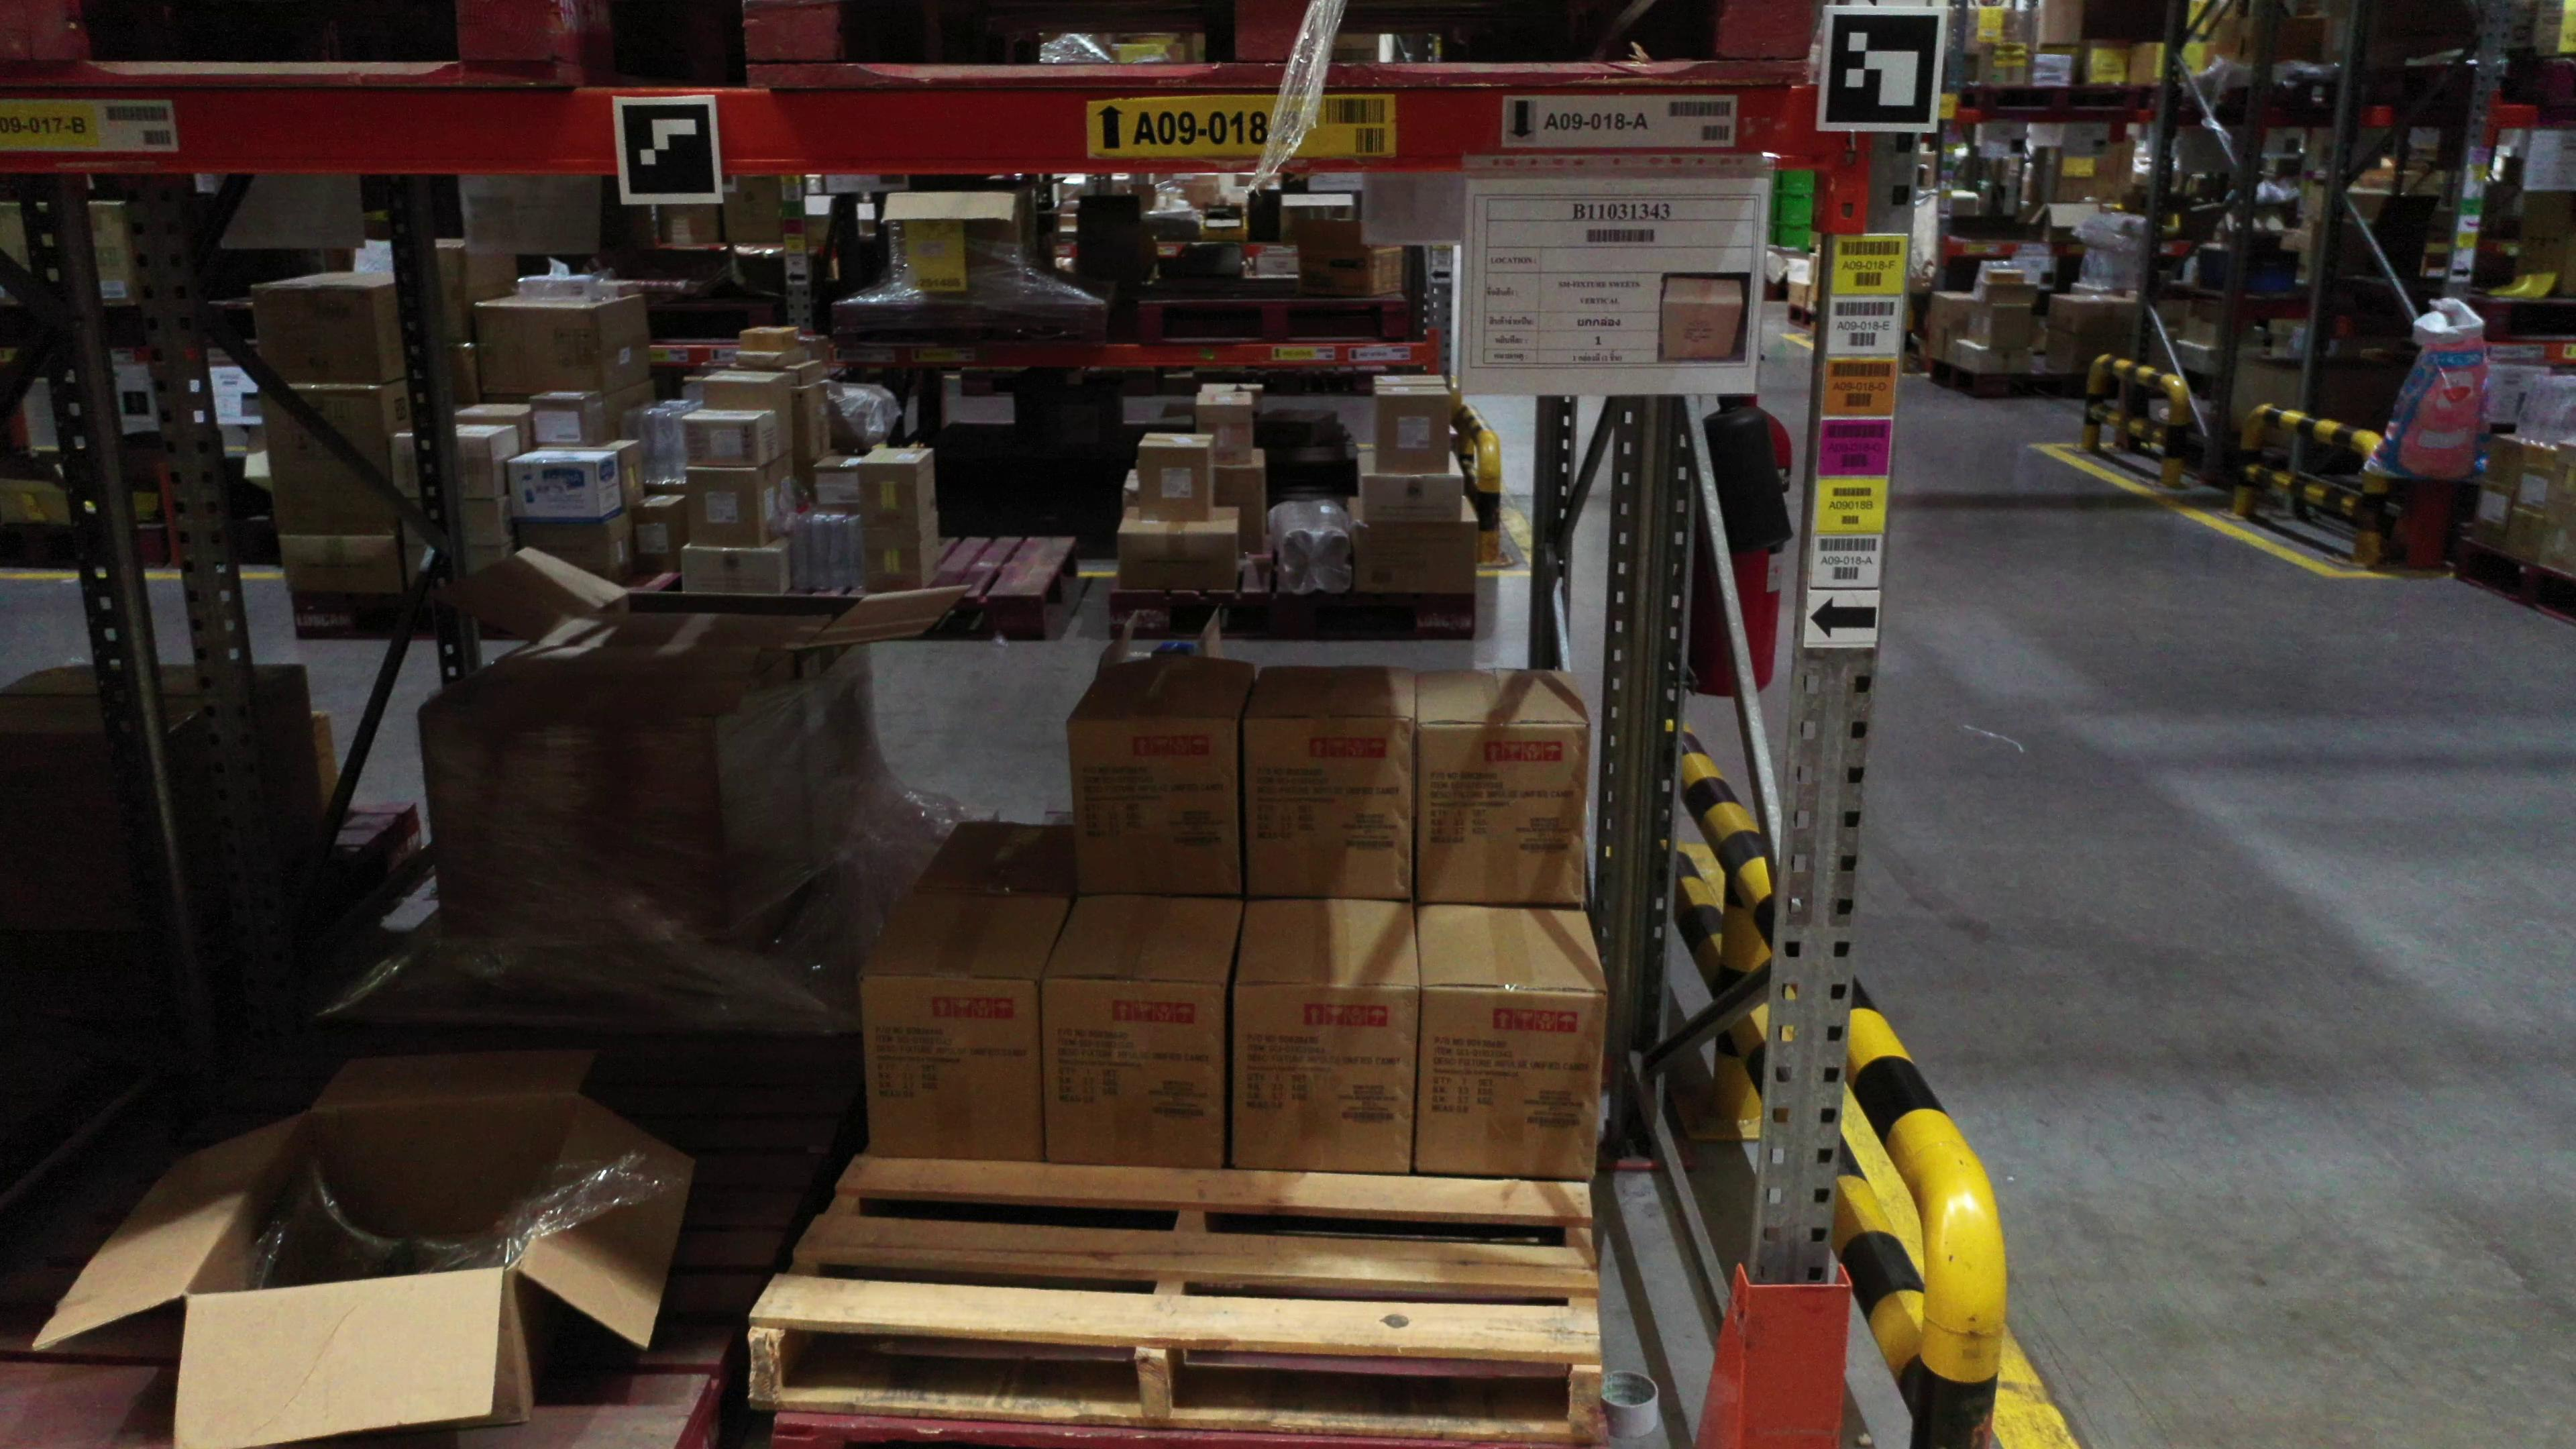-: (177, 1274, 527, 1449), (1405, 984, 1608, 1180), (1228, 980, 1421, 1177), (1042, 975, 1228, 1175), (858, 973, 1042, 1168), (1415, 720, 1587, 908), (1069, 718, 1244, 899), (1244, 720, 1414, 899)
box: (418, 713, 731, 938)
